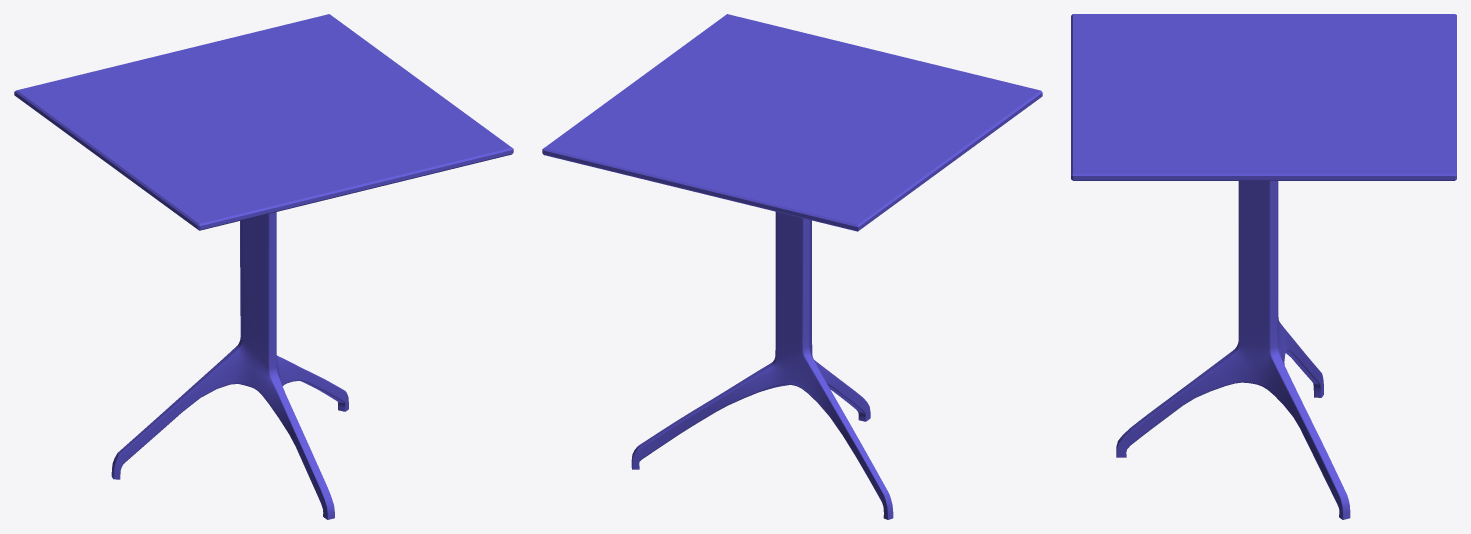
File: MesaBancoUV.fbx
The picture shows the model from 3 angles, left to right: view 1: azimuth 30°, elevation 25°; view 2: azimuth 150°, elevation 25°; view 3: azimuth 270°, elevation 25°; orthographic projection. The views are drawn at different scales.
Visible parts, largest first — view 1: Box001, Plane001; view 2: Box001, Plane001; view 3: Box001, Plane001.
Part boxes in pixels (<box>): Box001: <box>14,14,513,230</box>; Plane001: <box>111,212,348,519</box>; Box001: <box>542,14,1042,231</box>; Plane001: <box>631,212,893,519</box>; Box001: <box>1071,14,1456,180</box>; Plane001: <box>1116,181,1350,519</box>.
Size of the model in its own units: 67.17 by 70.91 by 67.94.
